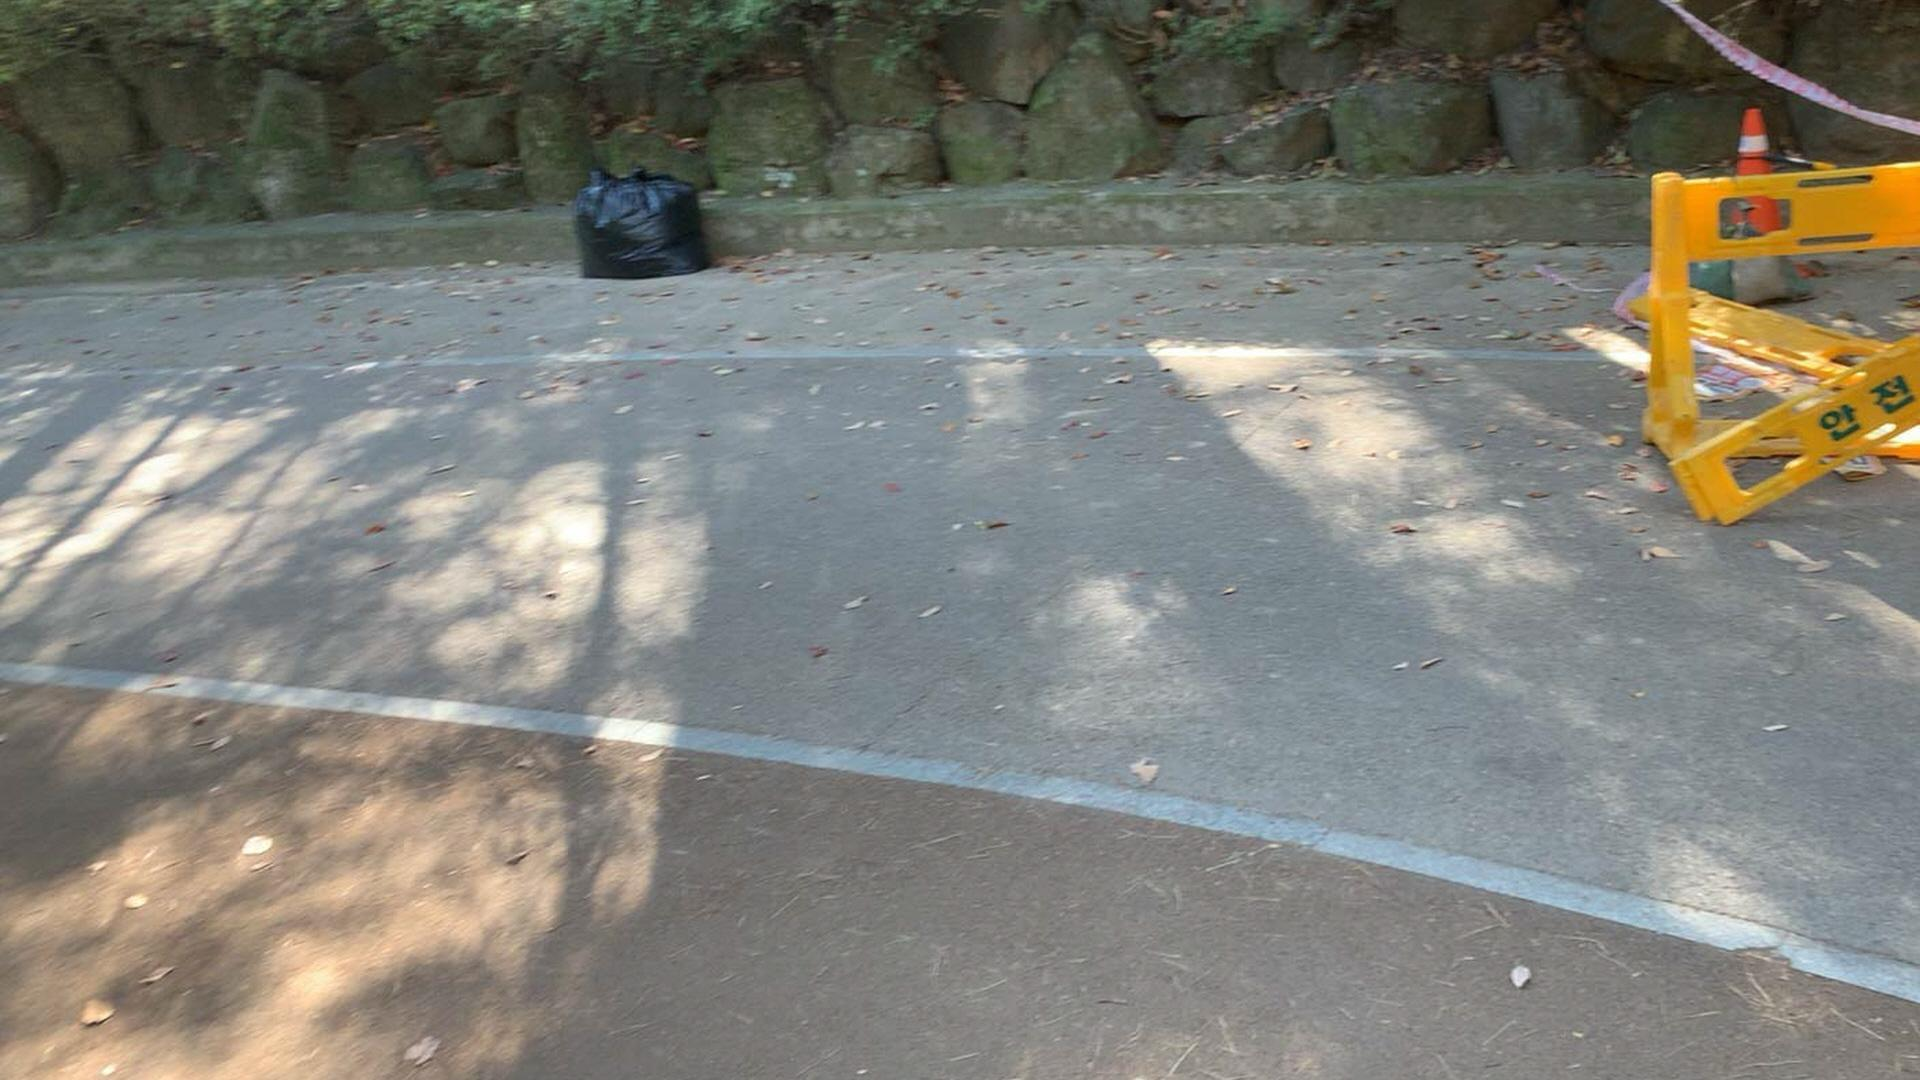black_bag: (563, 158, 720, 285)
